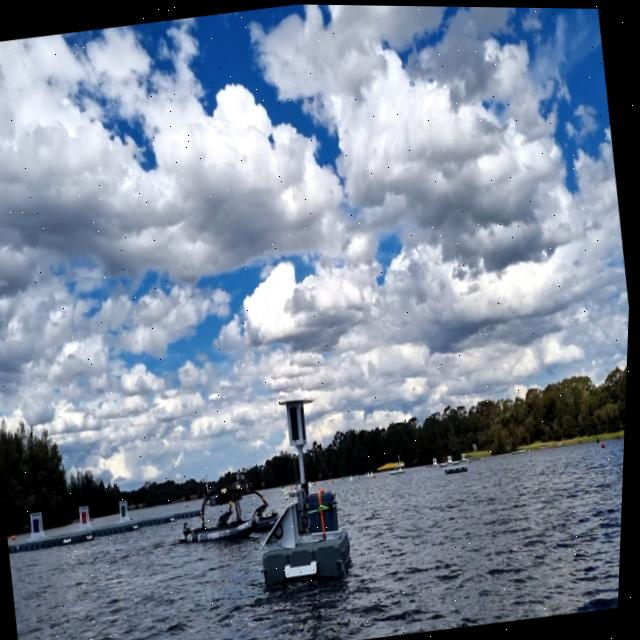led: (289, 404, 306, 442)
